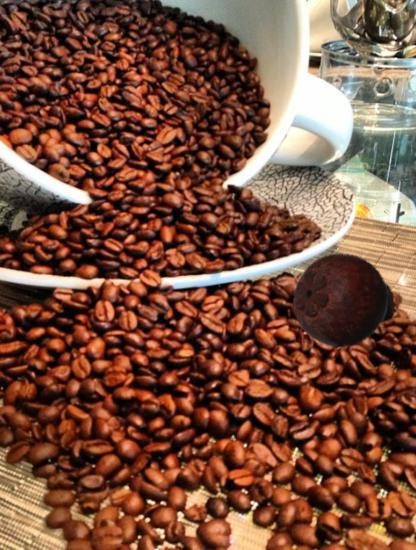Mangostan: (292, 248, 397, 353)
